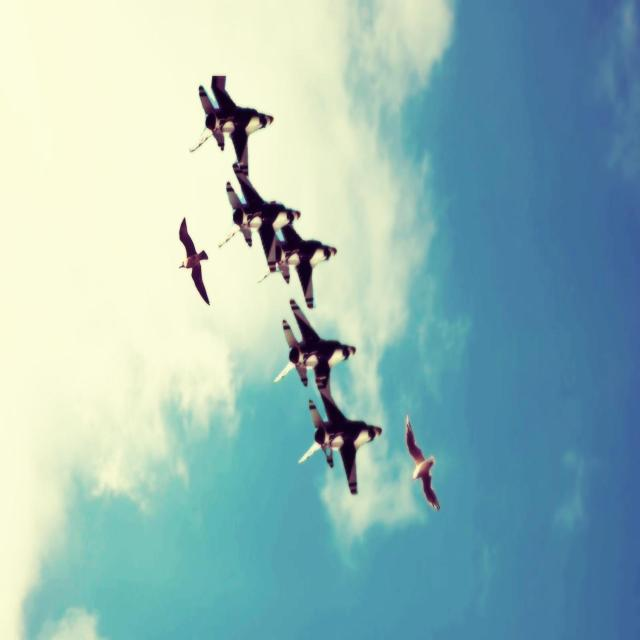airplane: (298, 373, 382, 495), (188, 74, 274, 165), (273, 298, 356, 388), (257, 220, 337, 309), (218, 165, 300, 249)
